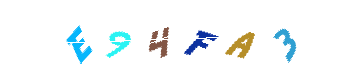3: (196, 0, 276, 80)
4: (130, 0, 210, 80)
9: (120, 0, 200, 80)
A: (160, 0, 240, 80)
E: (94, 0, 174, 80)
F: (134, 0, 214, 80)
